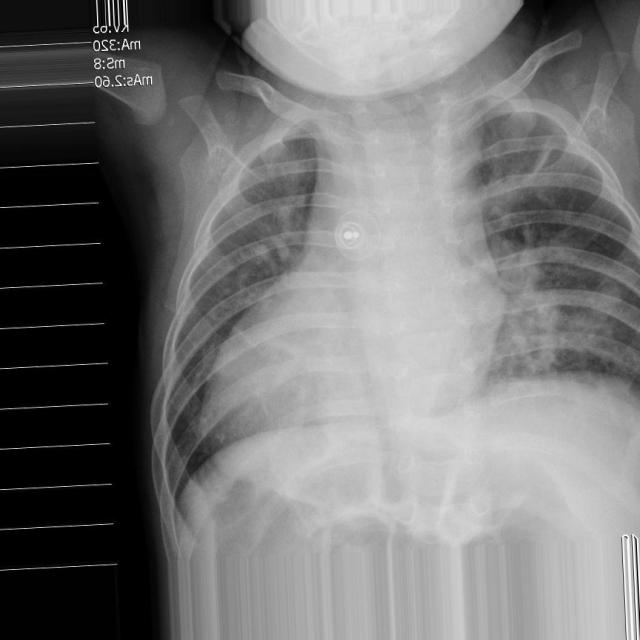viral_pneumonia: (79, 3, 640, 640)
